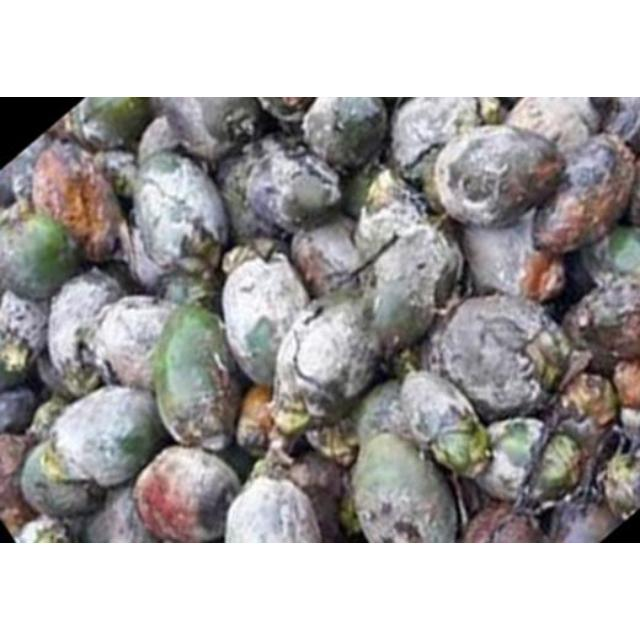damaged: (425, 293, 569, 421), (359, 220, 463, 352), (152, 304, 245, 448), (432, 125, 560, 228), (530, 132, 636, 254), (349, 430, 461, 542), (47, 386, 165, 492), (131, 152, 231, 276), (218, 252, 308, 388), (33, 141, 129, 263), (281, 311, 374, 425), (44, 272, 128, 396), (399, 369, 491, 477), (240, 142, 344, 236), (350, 182, 450, 272), (90, 294, 180, 392), (388, 98, 488, 182), (155, 98, 265, 166), (470, 418, 552, 504), (300, 98, 390, 172), (287, 220, 368, 298), (504, 98, 604, 154), (258, 98, 320, 128)
